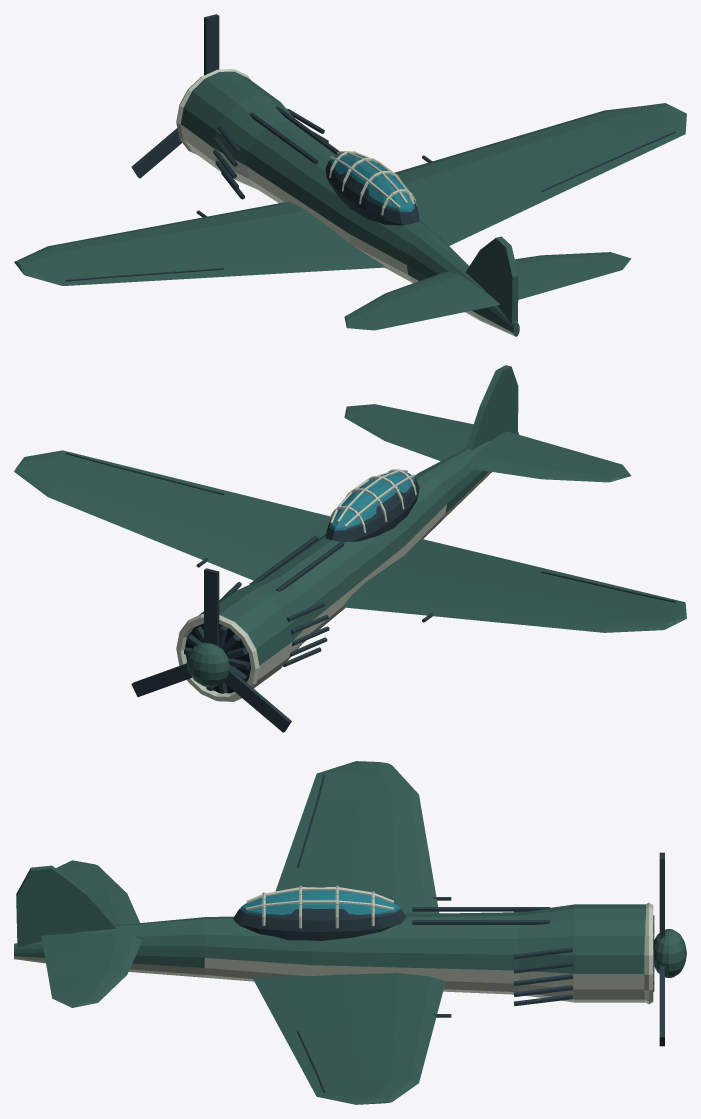
File: archive-a6m5.glb
The picture shows the model from 3 angles, top to bottom: view 1: azimuth 30°, elevation 25°; view 2: azimuth 150°, elevation 25°; view 3: azimuth 270°, elevation 25°; orthographic projection. The views are drawn at different scales.
Parts seen in each view (by area): view 1: archive-a6m5-fuselage.005-geometry, archive-a6m5-wing_0_1.005-geometry, archive-a6m5-wing_0_-1.005-geometry, archive-a6m5-archive-a6m5-geometry, archive-a6m5-tailplane.010-geometry, archive-a6m5-tailplane.011-geometry, archive-a6m5-vertical_tail.005-geometry, archive-a6m5-propeller_00.005-geometry, archive-a6m5-cowl_exhausts-geometry; view 2: archive-a6m5-wing_0_1.005-geometry, archive-a6m5-wing_0_-1.005-geometry, archive-a6m5-fuselage.005-geometry, archive-a6m5-archive-a6m5-geometry, archive-a6m5-tailplane.010-geometry, archive-a6m5-tailplane.011-geometry, archive-a6m5-propeller_00.005-geometry, archive-a6m5-vertical_tail.005-geometry, archive-a6m5-cowl_exhausts-geometry; view 3: archive-a6m5-fuselage.005-geometry, archive-a6m5-wing_0_1.005-geometry, archive-a6m5-wing_0_-1.005-geometry, archive-a6m5-archive-a6m5-geometry, archive-a6m5-tailplane.011-geometry, archive-a6m5-vertical_tail.005-geometry, archive-a6m5-tailplane.010-geometry, archive-a6m5-cowl_exhausts-geometry, archive-a6m5-propeller_00.005-geometry.
Boxes of the visible parts, x1,y1,x2,y2 form: archive-a6m5-fuselage.005-geometry: (180,71,519,336); archive-a6m5-wing_0_1.005-geometry: (394,103,686,245); archive-a6m5-wing_0_-1.005-geometry: (14,202,386,285); archive-a6m5-archive-a6m5-geometry: (176,69,432,225); archive-a6m5-tailplane.010-geometry: (344,271,500,330); archive-a6m5-tailplane.011-geometry: (515,252,631,299); archive-a6m5-vertical_tail.005-geometry: (465,236,518,323); archive-a6m5-propeller_00.005-geometry: (131,14,219,178); archive-a6m5-cowl_exhausts-geometry: (213,109,328,199); archive-a6m5-wing_0_1.005-geometry: (14,450,330,580); archive-a6m5-wing_0_-1.005-geometry: (342,539,686,632); archive-a6m5-fuselage.005-geometry: (186,432,519,691); archive-a6m5-archive-a6m5-geometry: (176,469,432,701); archive-a6m5-tailplane.010-geometry: (468,431,631,482); archive-a6m5-tailplane.011-geometry: (344,404,473,461); archive-a6m5-propeller_00.005-geometry: (131,568,291,732); archive-a6m5-vertical_tail.005-geometry: (465,365,518,450); archive-a6m5-cowl_exhausts-geometry: (222,582,329,666); archive-a6m5-fuselage.005-geometry: (14,904,645,1002); archive-a6m5-wing_0_1.005-geometry: (252,973,445,1104); archive-a6m5-wing_0_-1.005-geometry: (275,761,438,913); archive-a6m5-archive-a6m5-geometry: (233,885,686,1017); archive-a6m5-tailplane.011-geometry: (41,933,142,1007); archive-a6m5-vertical_tail.005-geometry: (16,865,116,946); archive-a6m5-tailplane.010-geometry: (56,860,139,925); archive-a6m5-cowl_exhausts-geometry: (513,911,572,1006); archive-a6m5-propeller_00.005-geometry: (659,852,664,1046).
Size of the model in its own units: 7.25 by 1.5 by 6.
